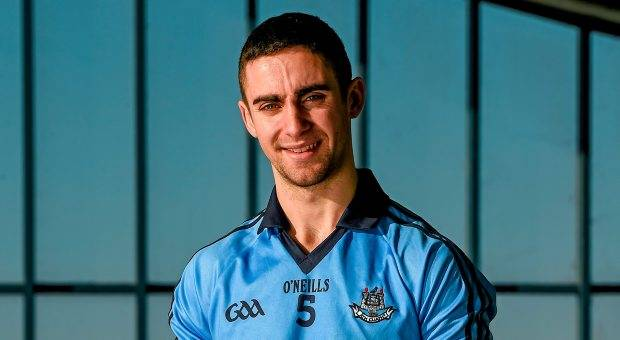player: (181, 12, 475, 332)
